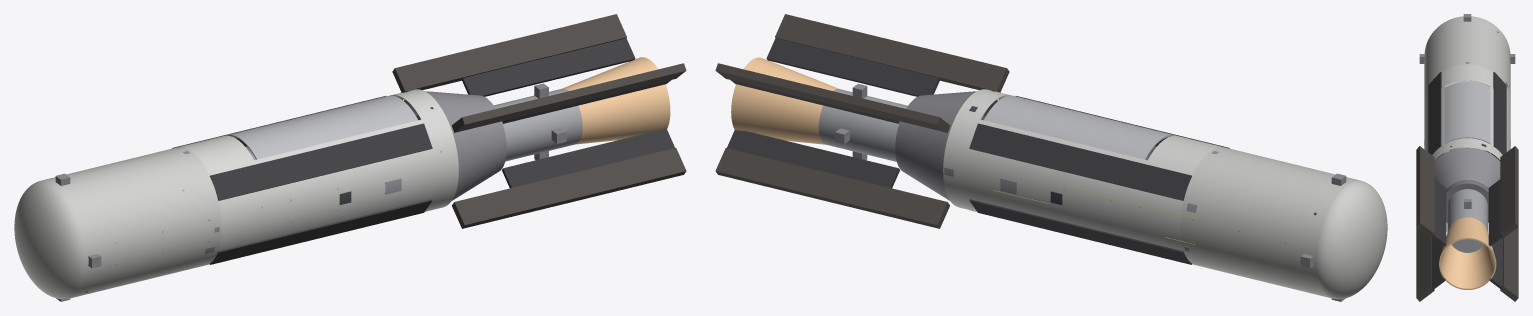
Rendered from wayfarer_I4_in_out_702cca4e.glb.
3 views of the same model, side by side, from view 1: azimuth 30°, elevation 25°; view 2: azimuth 150°, elevation 25°; view 3: azimuth 270°, elevation 25° (orthographic). The views are drawn at different scales.
Visible parts, largest first — view 1: Exterior, crown closed/hull_armor, Exterior, crown closed/radiator, Exterior, crown closed/hotfin, Exterior, crown closed/hull_skin, Exterior, crown closed/door, Exterior, crown closed/nozzle, Exterior, crown closed/thrust_cone, Exterior, crown closed/reactor, Exterior, crown closed/rcs; view 2: Exterior, crown closed/hull_armor, Exterior, crown closed/radiator, Exterior, crown closed/hotfin, Exterior, crown closed/hull_skin, Exterior, crown closed/door, Exterior, crown closed/nozzle, Exterior, crown closed/thrust_cone, Exterior, crown closed/reactor, Exterior, crown closed/rcs; view 3: Exterior, crown closed/hotfin, Exterior, crown closed/radiator, Exterior, crown closed/hull_armor, Exterior, crown closed/nozzle, Exterior, crown closed/door, Exterior, crown closed/hull_skin, Exterior, crown closed/thrust_cone, Exterior, crown closed/reactor, Exterior, crown closed/shield, Exterior, crown closed/rcs.
Part boxes in pixels (<box>): Exterior, crown closed/hull_armor: <box>14,147,221,299</box>; Exterior, crown closed/radiator: <box>172,38,674,264</box>; Exterior, crown closed/hotfin: <box>392,14,686,228</box>; Exterior, crown closed/hull_skin: <box>178,89,458,264</box>; Exterior, crown closed/door: <box>226,95,417,159</box>; Exterior, crown closed/nozzle: <box>562,57,670,144</box>; Exterior, crown closed/thrust_cone: <box>404,91,506,200</box>; Exterior, crown closed/reactor: <box>494,88,582,161</box>; Exterior, crown closed/rcs: <box>55,83,566,301</box>; Exterior, crown closed/hull_armor: <box>1180,147,1387,299</box>; Exterior, crown closed/radiator: <box>727,38,1229,264</box>; Exterior, crown closed/hotfin: <box>715,14,1009,228</box>; Exterior, crown closed/hull_skin: <box>943,89,1223,264</box>; Exterior, crown closed/door: <box>984,95,1175,159</box>; Exterior, crown closed/nozzle: <box>731,57,838,144</box>; Exterior, crown closed/thrust_cone: <box>895,91,997,200</box>; Exterior, crown closed/reactor: <box>818,89,907,161</box>; Exterior, crown closed/rcs: <box>835,84,1346,301</box>; Exterior, crown closed/hotfin: <box>1416,146,1518,301</box>; Exterior, crown closed/radiator: <box>1428,72,1506,289</box>; Exterior, crown closed/hull_armor: <box>1424,16,1510,100</box>; Exterior, crown closed/nozzle: <box>1439,217,1496,289</box>; Exterior, crown closed/door: <box>1444,81,1490,143</box>; Exterior, crown closed/hull_skin: <box>1424,64,1510,159</box>; Exterior, crown closed/thrust_cone: <box>1434,147,1500,222</box>; Exterior, crown closed/reactor: <box>1447,189,1487,252</box>; Exterior, crown closed/shield: <box>1446,180,1488,222</box>; Exterior, crown closed/rcs: <box>1419,14,1515,231</box>.
Size of the model in its own units: 53.3 by 10 by 10.73.
